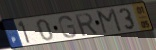0: (36, 18, 56, 41)
1: (17, 20, 32, 45)
3: (118, 7, 137, 31)
G: (58, 15, 78, 39)
M: (96, 7, 124, 35)
R: (73, 12, 100, 38)
